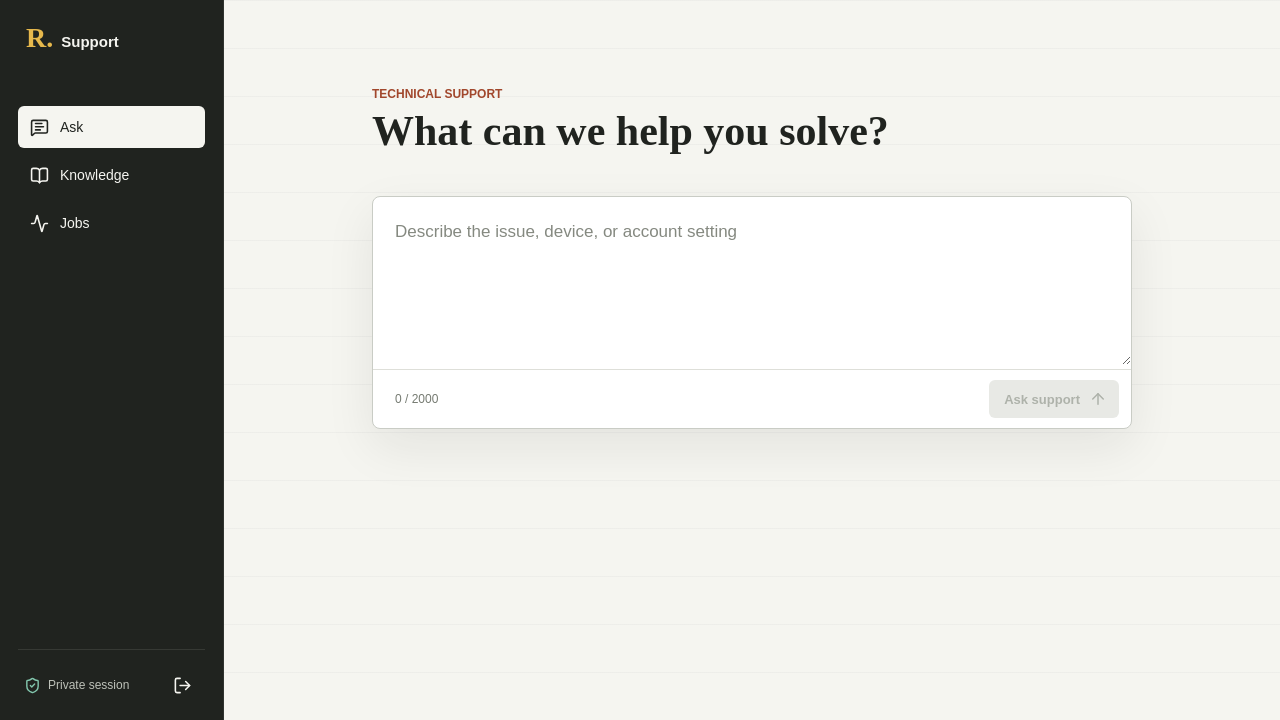
Test: App › restores an authenticated session and navigates
Expected: the heading "What can we help you solve?" is shown, x1=372 y1=108 x2=889 y2=154
Click the button "Knowledge" at (112, 175), box x1=18 y1=154 x2=205 y2=196
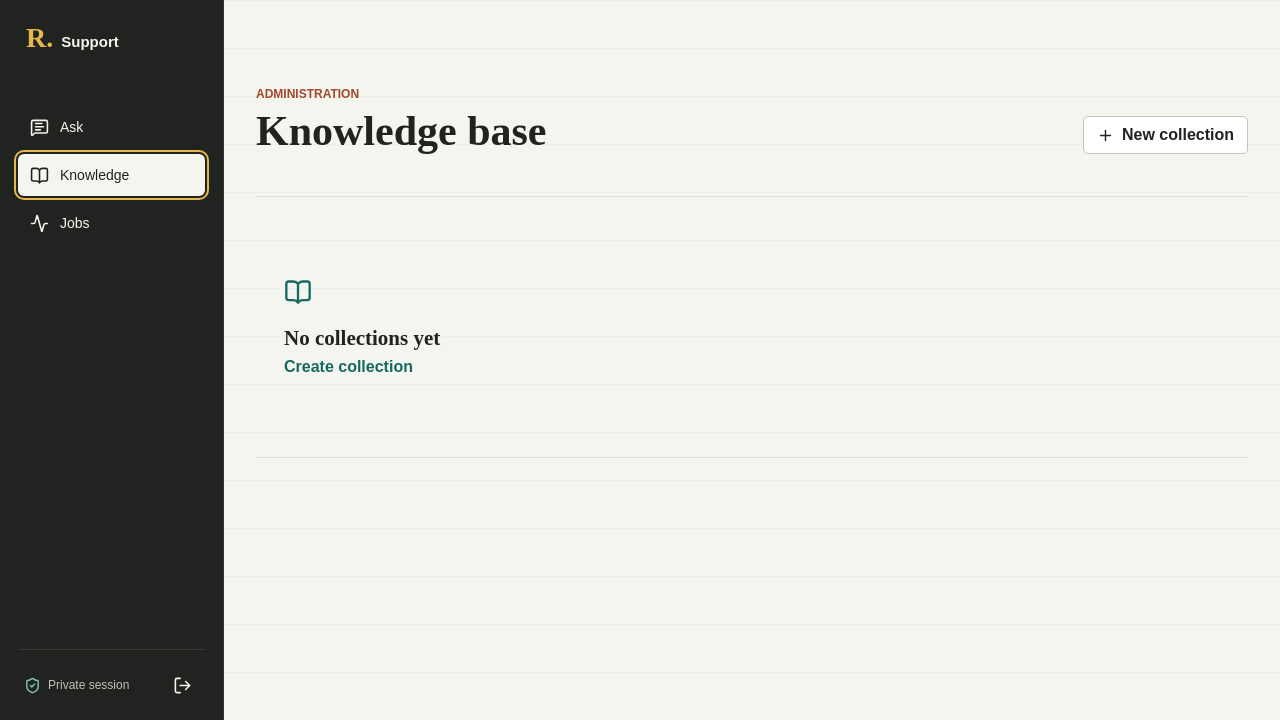
Expected: the heading "Knowledge base" is shown, x1=256 y1=109 x2=546 y2=154
